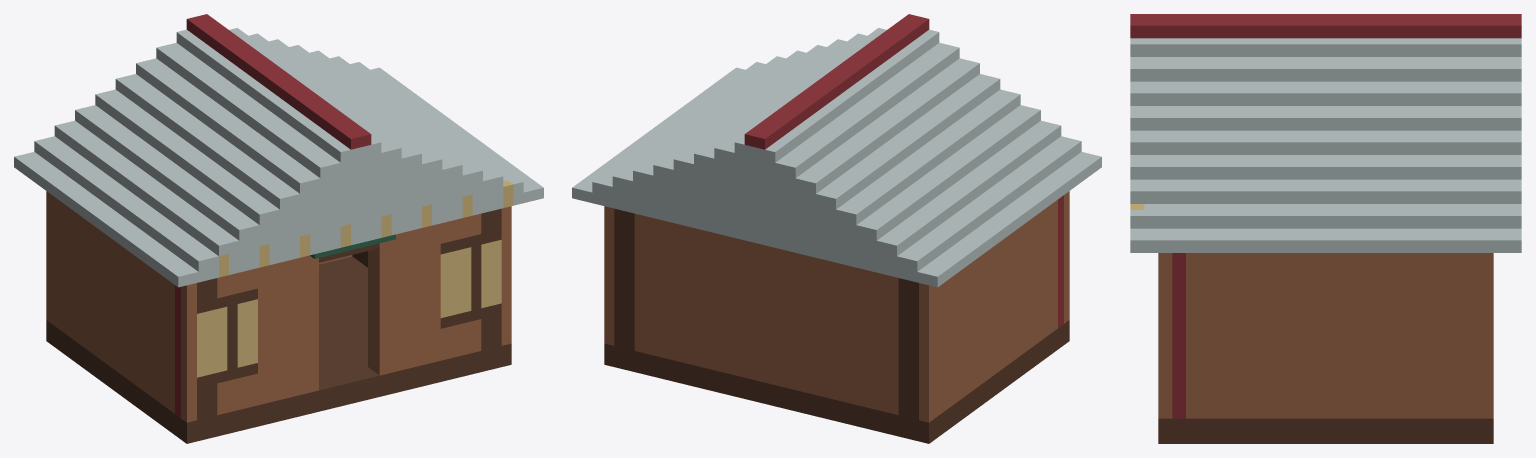
File: house.glb
The picture shows the model from 3 angles, left to right: view 1: azimuth 30°, elevation 25°; view 2: azimuth 150°, elevation 25°; view 3: azimuth 270°, elevation 25°; orthographic projection. The views are drawn at different scales.
Parts seen in each view (by area): view 1: Shell; view 2: Shell; view 3: Shell.
Boxes of the visible parts, x1=… form: Shell: x1=14, y1=14, x2=543, y2=443; Shell: x1=572, y1=14, x2=1101, y2=443; Shell: x1=1130, y1=14, x2=1521, y2=443.
Size of the model in its own units: 4.5 by 3.25 by 3.5.
